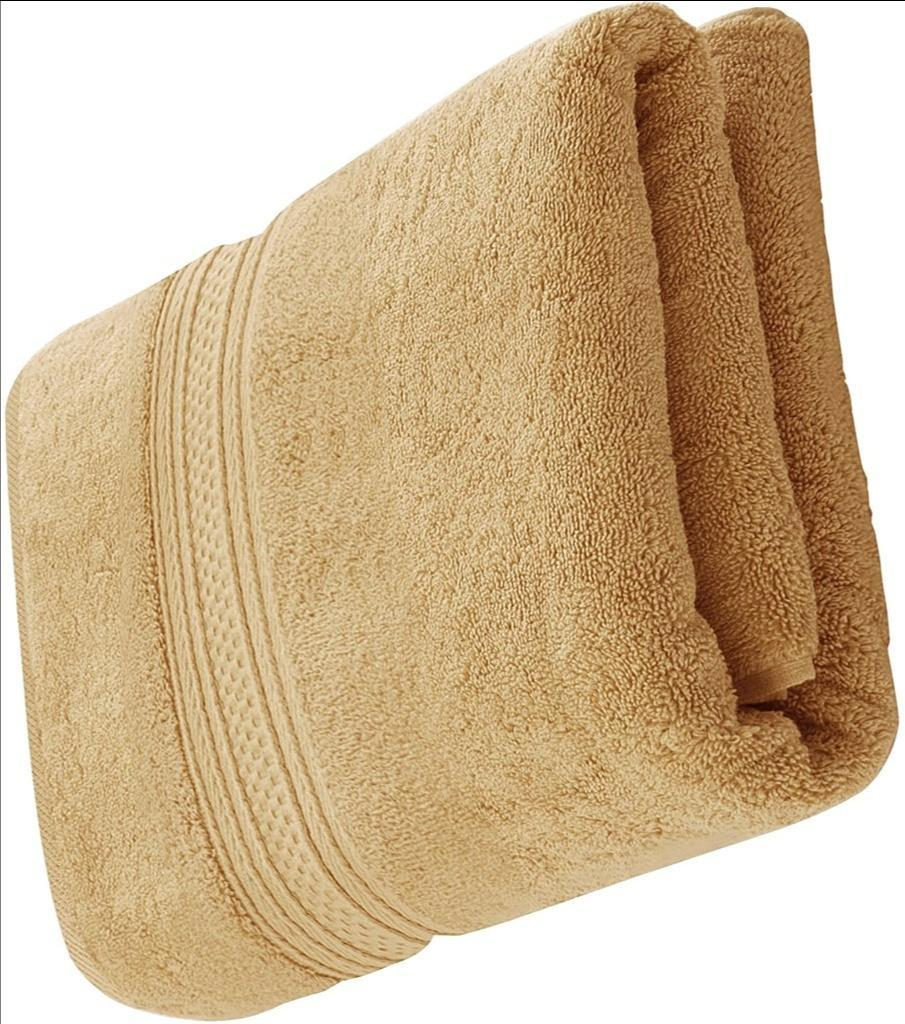towel: (0, 2, 905, 1024)
